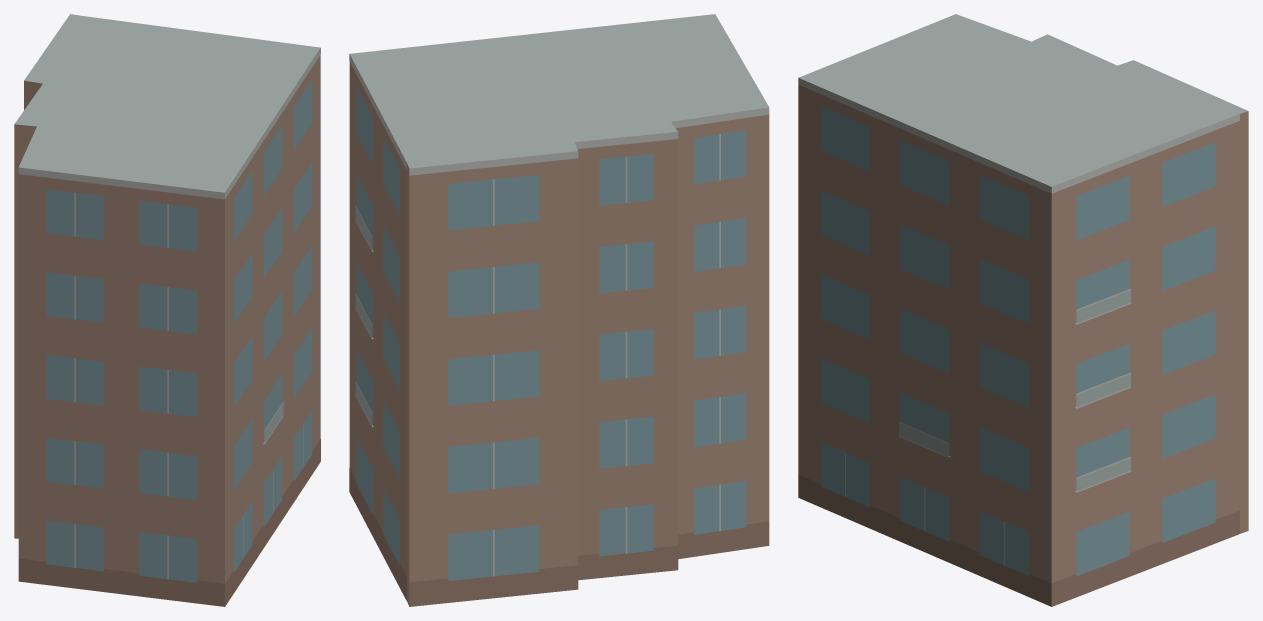
Rendered from survey-upis-32651522.glb.
3 renders of one model, left to right at view 1: azimuth 30°, elevation 25°; view 2: azimuth 150°, elevation 25°; view 3: azimuth 270°, elevation 25°, orthographic. The views are drawn at different scales.
Visible parts, largest first — view 1: survey-upis-32651522.tmp; view 2: survey-upis-32651522.tmp; view 3: survey-upis-32651522.tmp.
Part boxes in pixels (bbox=[...]): survey-upis-32651522.tmp: bbox=[14, 14, 320, 606]; survey-upis-32651522.tmp: bbox=[349, 14, 769, 606]; survey-upis-32651522.tmp: bbox=[798, 14, 1248, 606].
Bounding box in the file's own units: 13.34 × 15.1 × 14.68.
